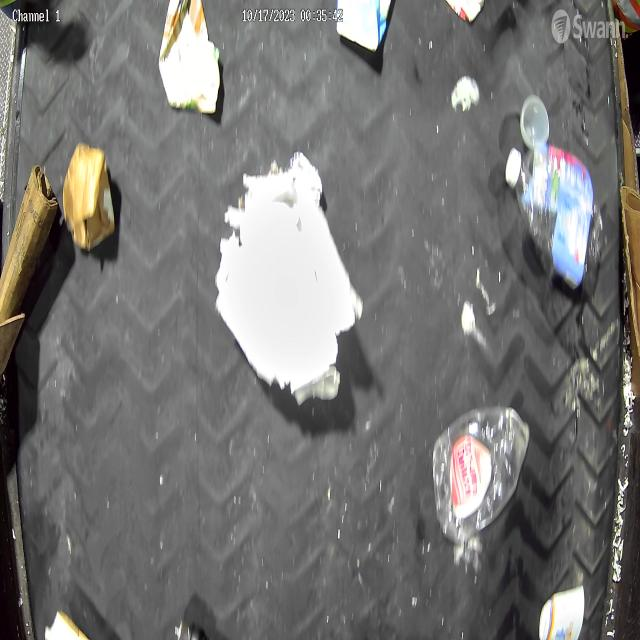plastic_bottle: (504, 140, 602, 287)
